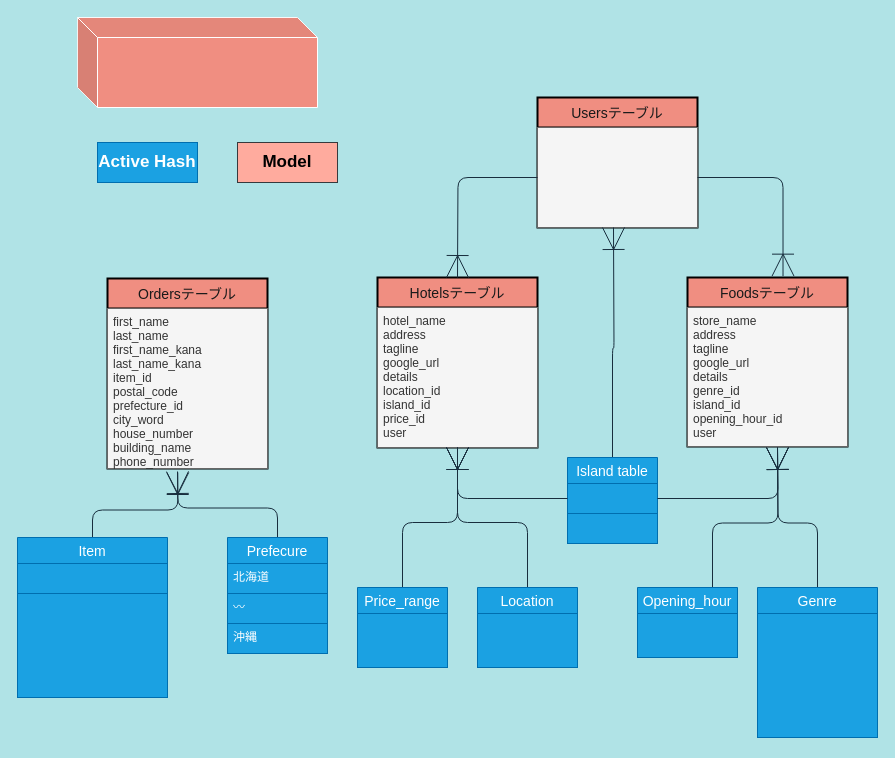
This 895x758 diagram has some shape labels left out. Each missing label, with the centre of its shape:
"highクラス middleクラス lowクラス" belongs at point 402,640.
"island name price tagline image" belongs at point 92,645.
"nickname email uncrypted_password first_name_kana last_name_kana island_id" belongs at point 617,177.
"original-app ER図" belongs at point 197,62.
"ランチ営業あり 深夜営業あり" belongs at point 687,635.
"商品 8点" belongs at point 92,578.
"壱岐" belongs at point 612,528.
"対馬" belongs at point 612,498.
"居酒屋 和食 洋食 中華 ラーメン 寿司 喫茶店 その他" belongs at point 817,675.
"港から近い 空港から近い その他" belongs at point 527,640.
